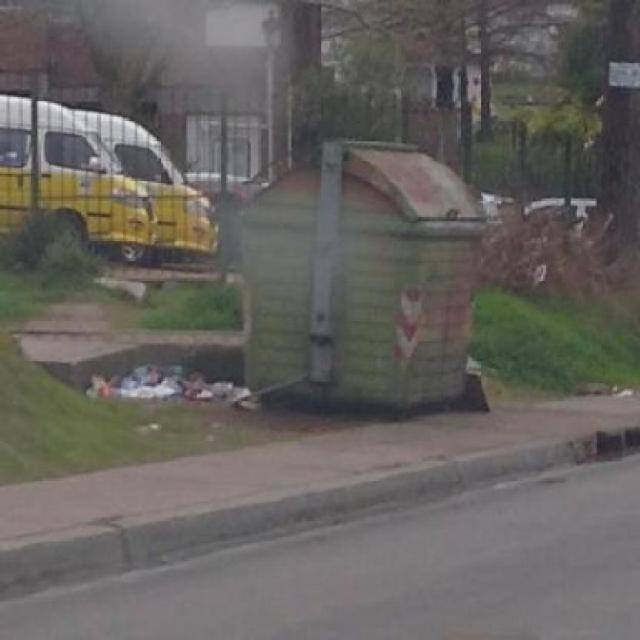garbage: (86, 345, 262, 405), (472, 366, 486, 422)
